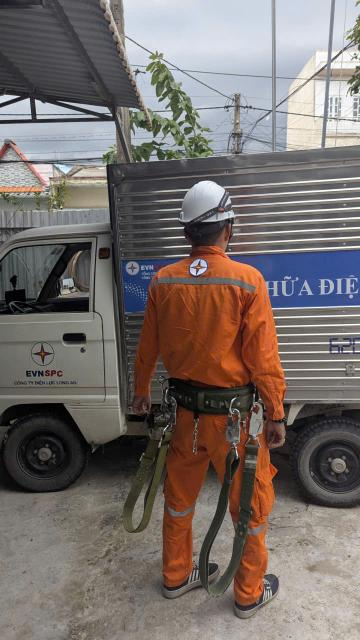harness: (156, 357, 264, 421)
helmet: (162, 168, 248, 229)
shoes: (232, 558, 293, 617), (162, 553, 223, 597)
